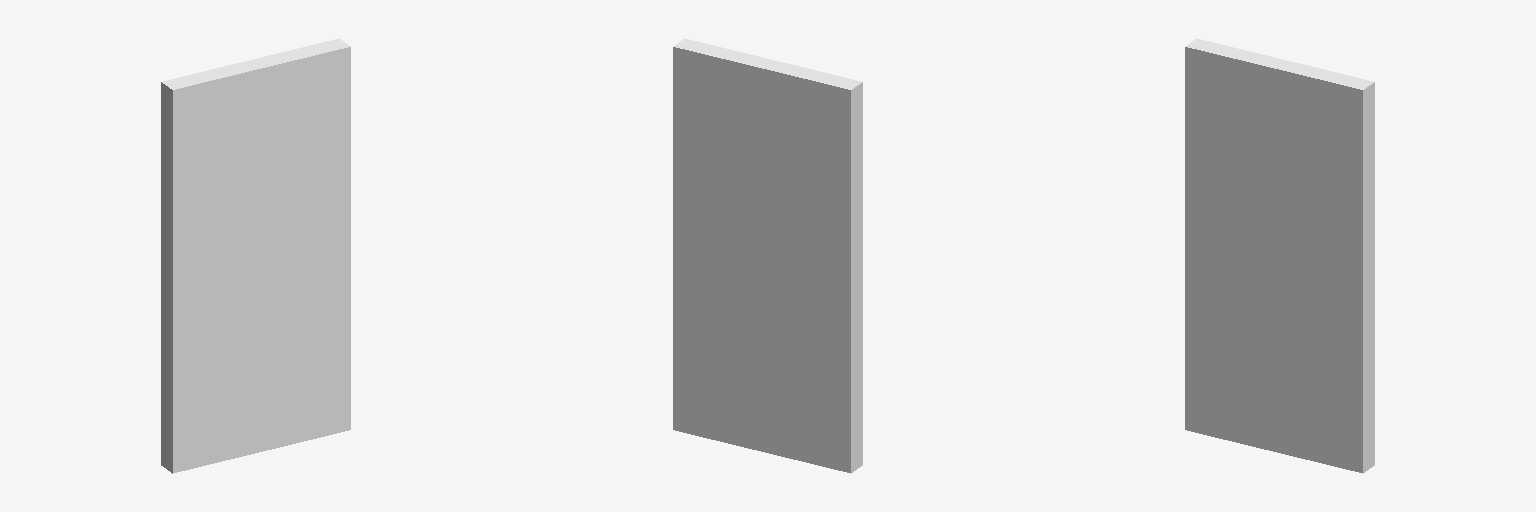
Rendered from Arsenal-0.obj.
3 views of the same model, side by side, from view 1: azimuth 30°, elevation 25°; view 2: azimuth 150°, elevation 25°; view 3: azimuth 330°, elevation 25° (orthographic).
Parts seen in each view (by area): view 1: object 1; view 2: object 1; view 3: object 1.
Part boxes in pixels (bbox=[...]): object 1: bbox=[161, 38, 350, 473]; object 1: bbox=[673, 38, 862, 473]; object 1: bbox=[1185, 38, 1374, 473].
Bounding box in the file's own units: 1.8 × 3.7 × 0.2.